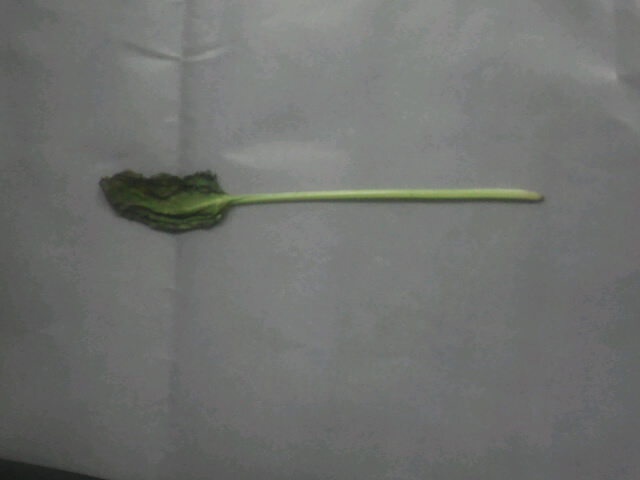yellow: (93, 152, 546, 242)
